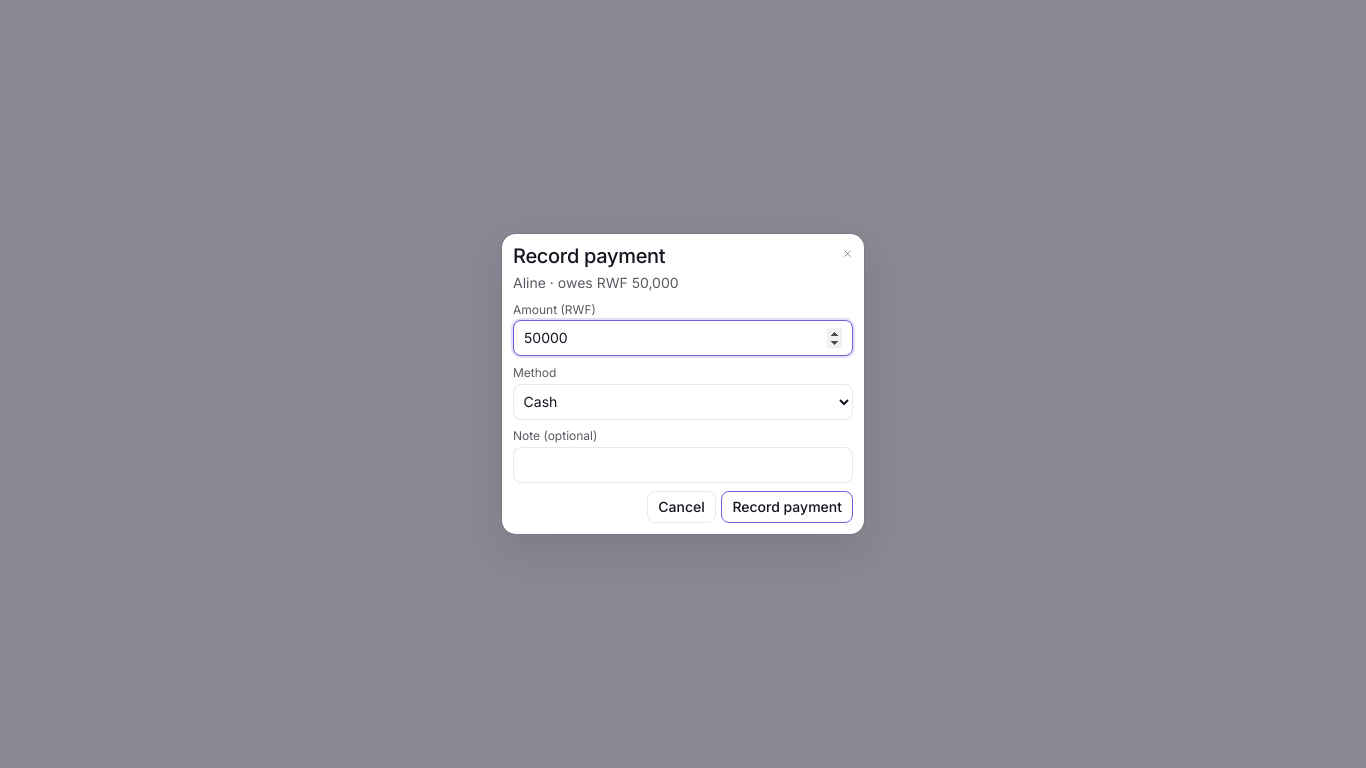
RecordPaymentDialog › refuses more than is owed
Replace the text in the number field labelled "Amount (RWF)" with "60000" at point(683, 338), box [513,320,853,356]
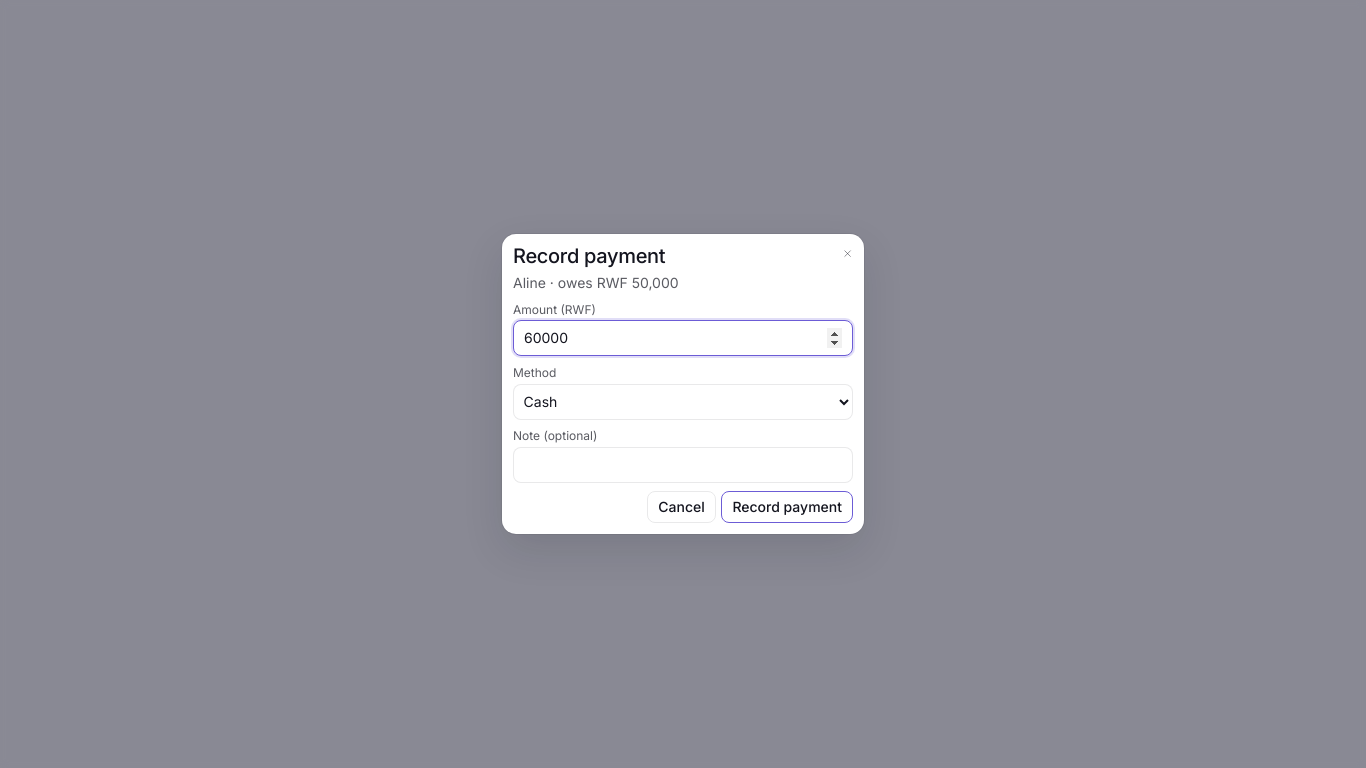
Click the button "Record payment".
click(787, 507)  # box [721,491,853,523]
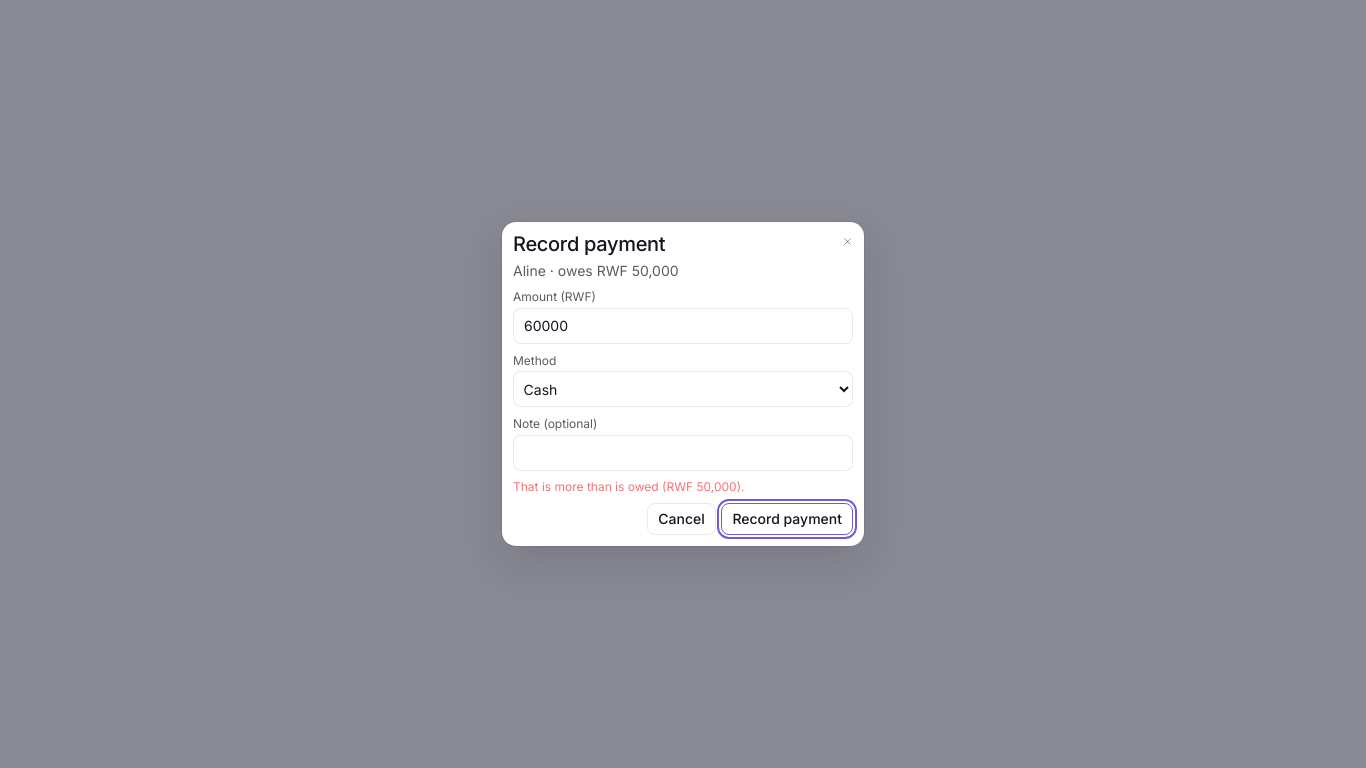
Result: the text "That is more than is owed (RWF 50,000)." is shown at [513,479,744,494]
